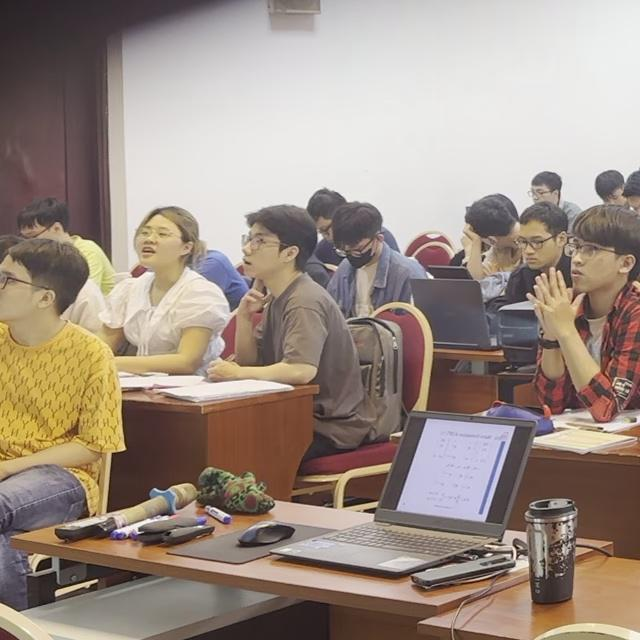Looking away: (522, 219, 558, 268), (340, 230, 385, 268)
Looking forward: (568, 233, 630, 295), (133, 212, 193, 271), (238, 221, 297, 281)
